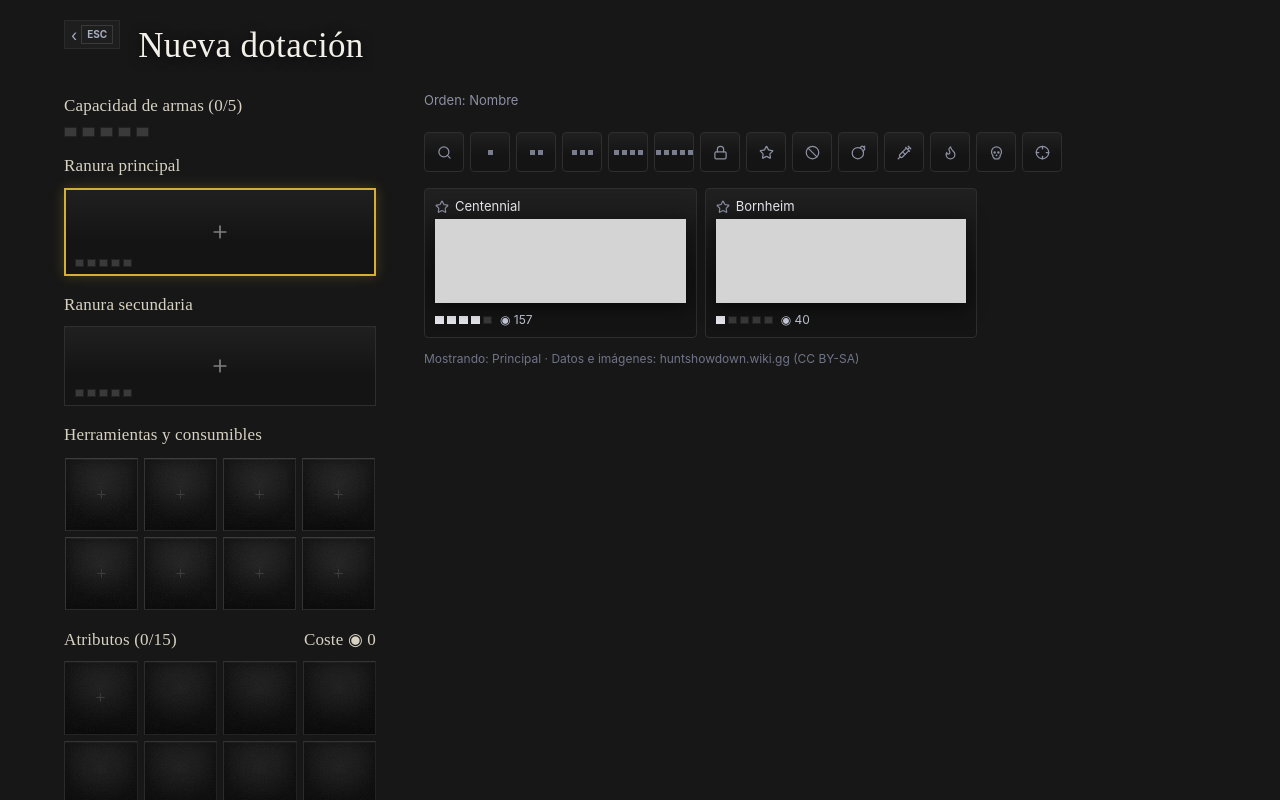
Test case: DotacionEditor con armas live › carga el selector desde /api/armas y asigna a la ranura activa
Expected: the text "Centennial" is shown, [455, 197, 520, 216]
Click the button "Centennial ◉ 157" at [560, 263], box [424, 188, 697, 338]
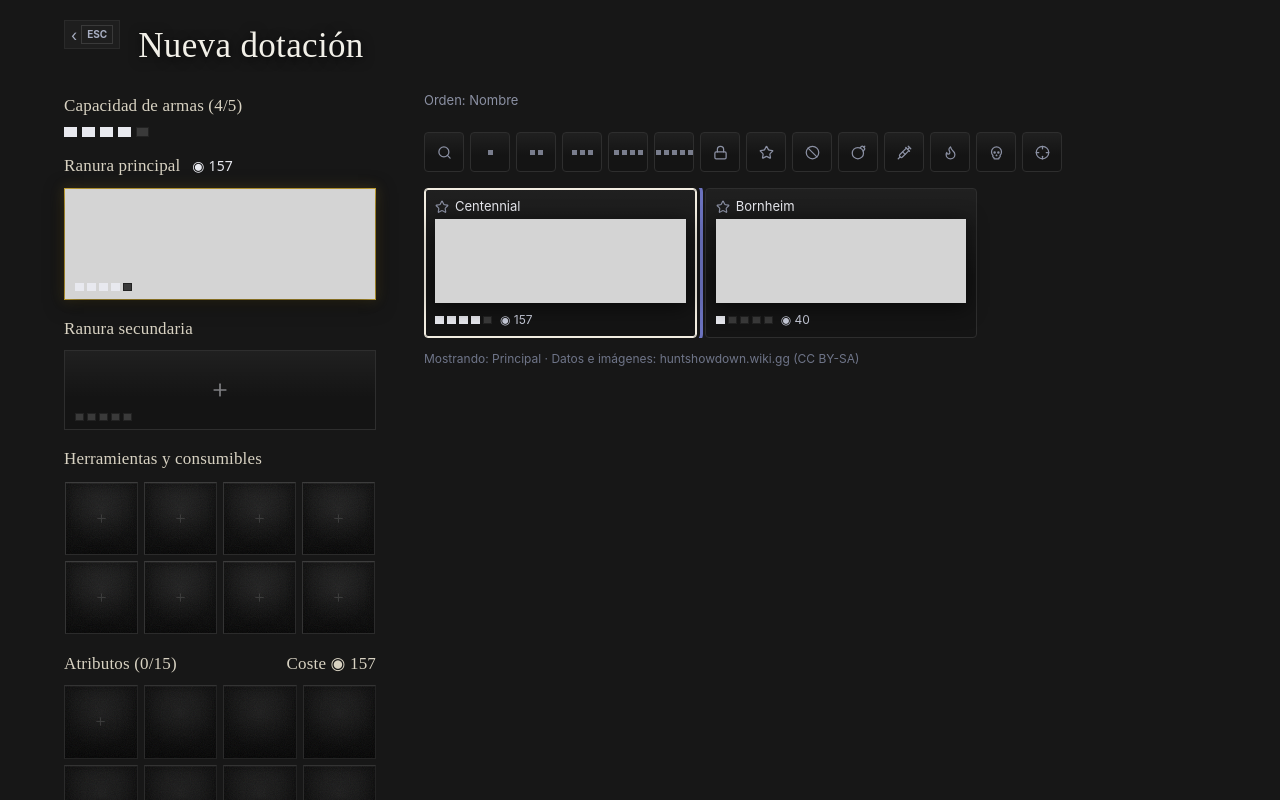
Result: the heading "Capacidad de armas (4/5)" is shown at [64, 96, 242, 114]
Result: the text "Coste ◉ 157" is shown at [287, 650, 376, 676]
